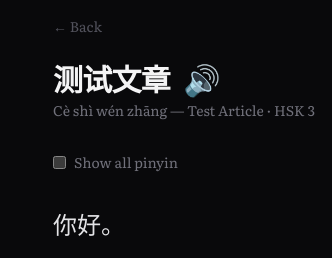
Test: Reader › dismisses tooltip when clicking article container
Click the text "你": point(65, 224) [53,206,77,241]
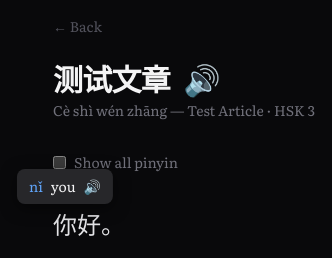
Check: the text "you" is shown, box [51,176,76,196]
Click on the article container (parent div)
Click the text "测试文章": point(112, 78) [17,16,315,241]
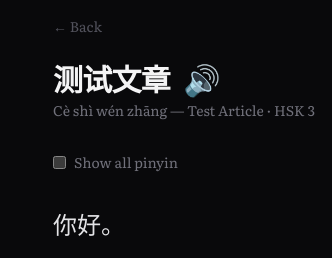
Check: the text "you" is gone
